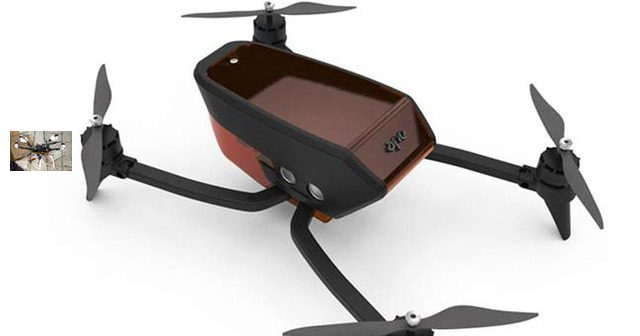drone: (82, 1, 605, 332), (10, 131, 72, 171)
